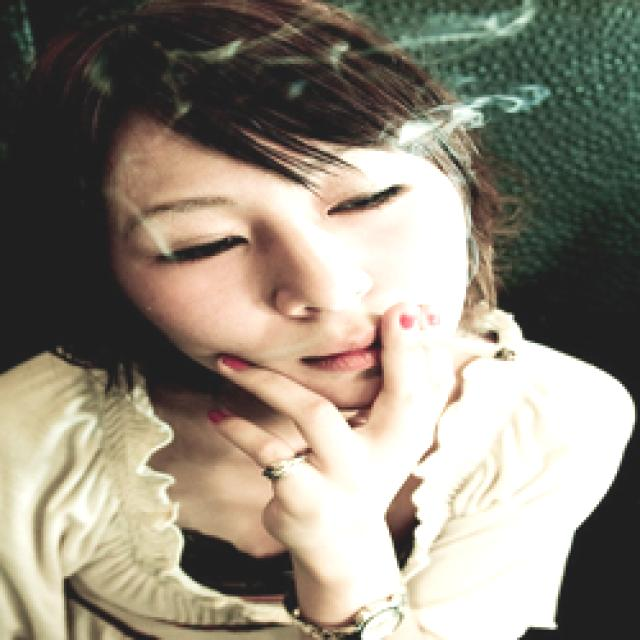Smooking: (450, 330, 516, 379)
